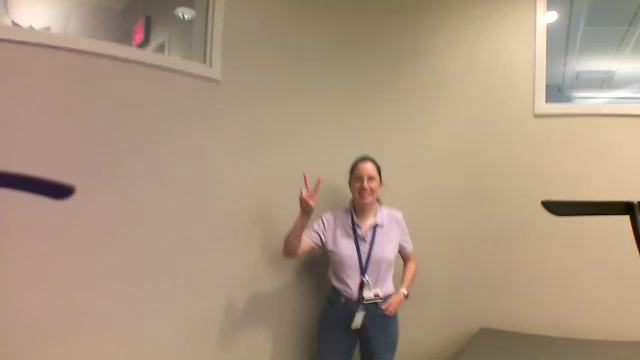peace: (296, 168, 327, 215)
